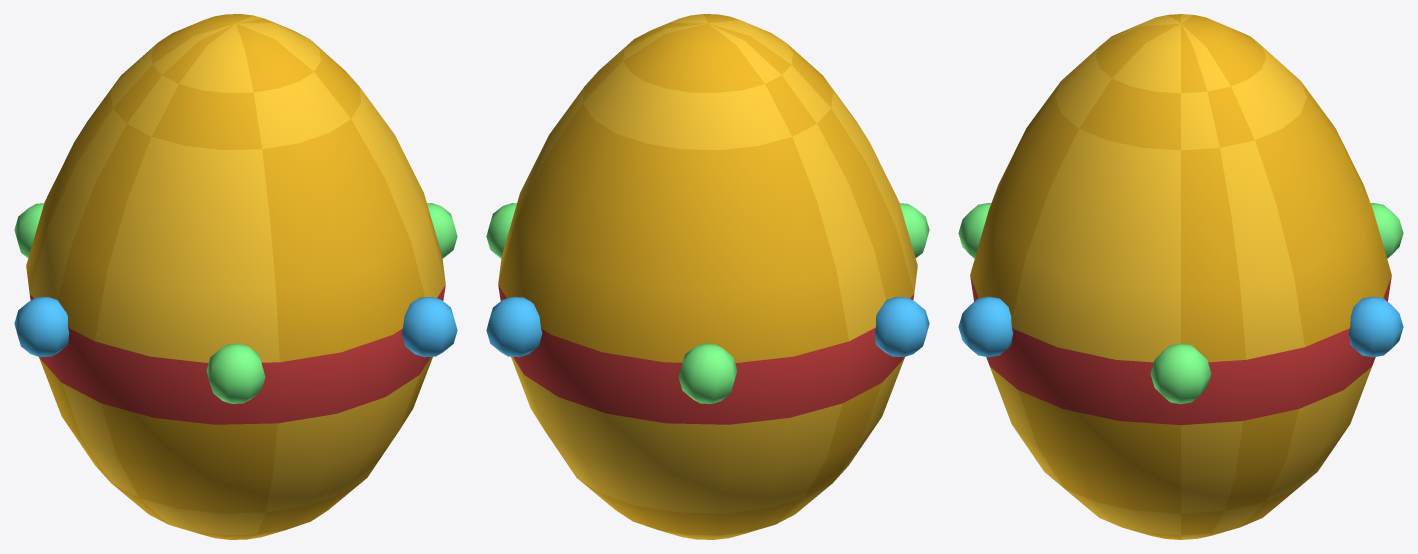
Rendered from Golden.glb.
3 renders of one model, left to right at view 1: azimuth 30°, elevation 25°; view 2: azimuth 150°, elevation 25°; view 3: azimuth 270°, elevation 25°, orthographic.
Visible parts, largest first — view 1: Golden; view 2: Golden; view 3: Golden.
Boxes of the visible parts, x1,y1,x2,y2 form: Golden: [14, 14, 457, 539]; Golden: [486, 14, 929, 539]; Golden: [958, 14, 1403, 539].
Size of the model in its own units: 3.64 by 4 by 3.21.
Materials: 1 (1 with a texture image).
